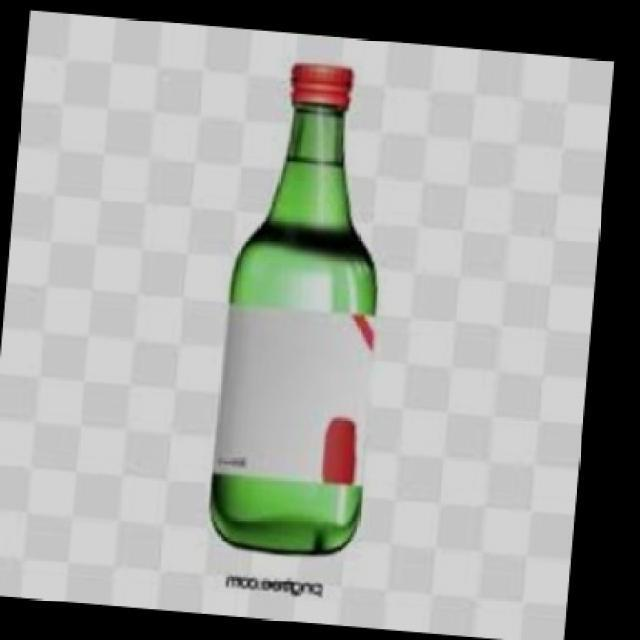Glass: (209, 61, 379, 556)
